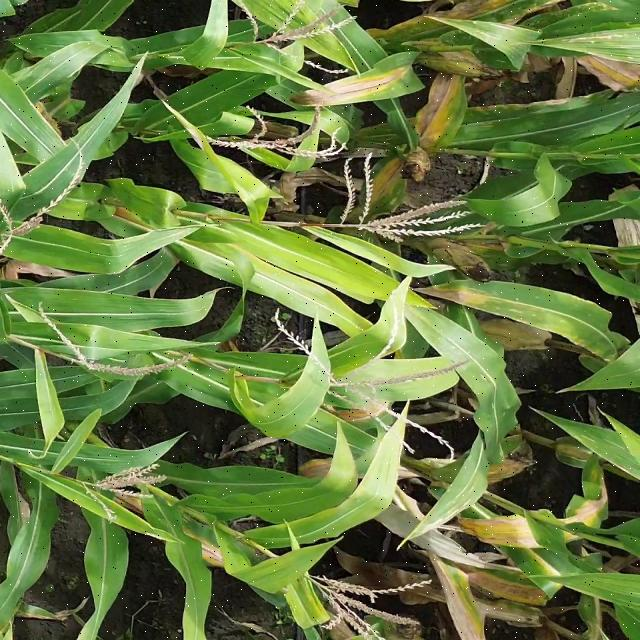gray-leaf-spot: (472, 371, 512, 421), (477, 20, 531, 55), (567, 32, 640, 56), (23, 66, 63, 90), (574, 424, 613, 448)
northern-leaf-blight: (472, 564, 558, 603), (330, 72, 411, 102), (562, 482, 616, 526), (430, 80, 463, 146), (436, 284, 491, 308)
southern-leaf-blight: (501, 285, 583, 325)
